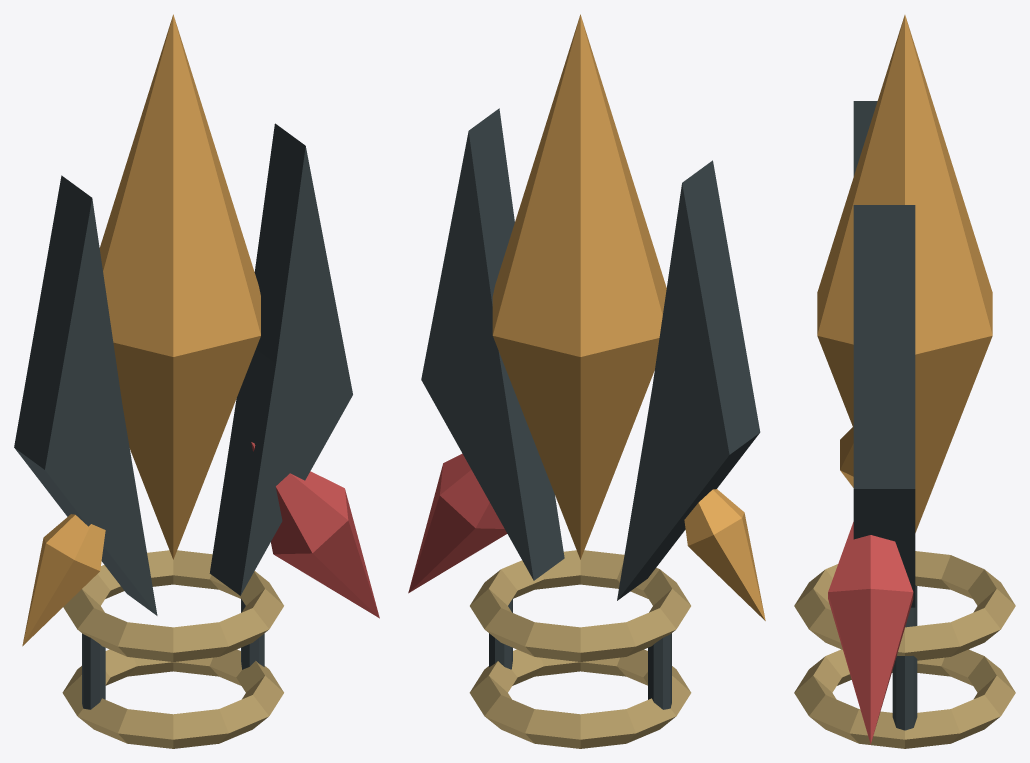
The model's file is Equip_CometSpire.fbx.
3 views of the same model, side by side, from view 1: azimuth 30°, elevation 25°; view 2: azimuth 150°, elevation 25°; view 3: azimuth 270°, elevation 25° (orthographic).
Visible parts, largest first — view 1: Equip_CometSpire; view 2: Equip_CometSpire; view 3: Equip_CometSpire.
Boxes of the visible parts, left/top/right/bottom form: Equip_CometSpire: left=14, top=14, right=379, bottom=748; Equip_CometSpire: left=408, top=14, right=765, bottom=748; Equip_CometSpire: left=794, top=15, right=1015, bottom=748.
Bounding box in the file's own units: 0.3016 × 0.561 × 0.162.
